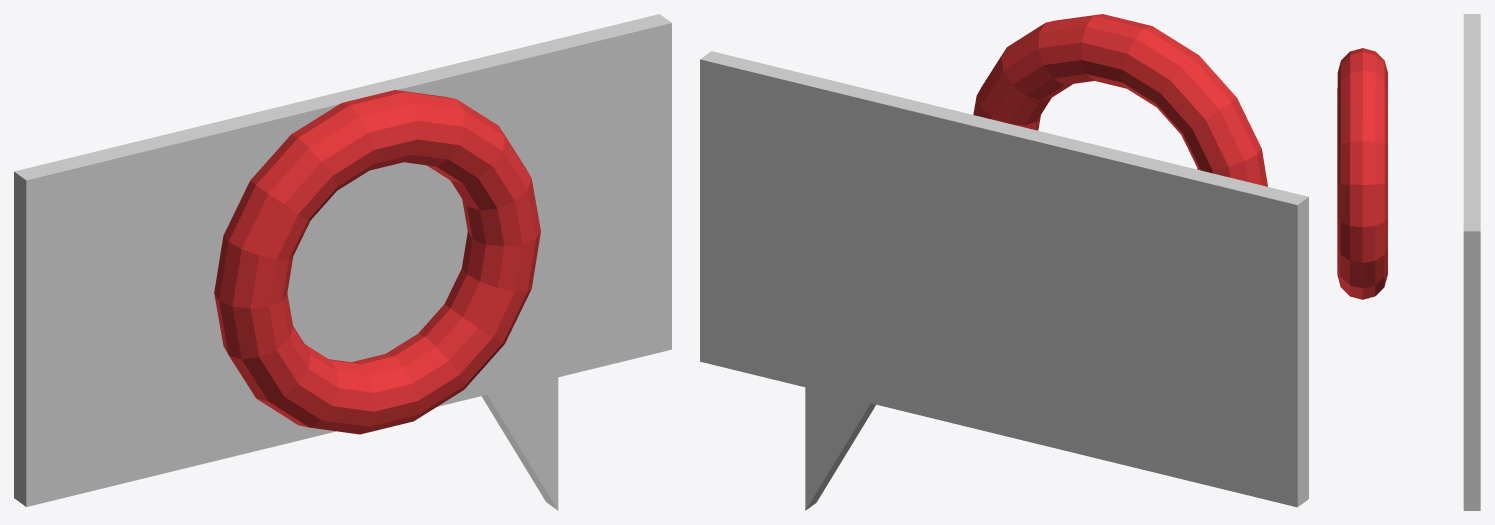
File: OBubble.glb
3 renders of one model, left to right at view 1: azimuth 30°, elevation 25°; view 2: azimuth 150°, elevation 25°; view 3: azimuth 270°, elevation 25°, orthographic. The views are drawn at different scales.
Parts seen in each view (by area): view 1: Bubble, O; view 2: Bubble, O; view 3: O, Bubble.
Part boxes in pixels (x1=…): Bubble: x1=14, y1=14, x2=671, y2=510; O: x1=214, y1=90, x2=540, y2=434; Bubble: x1=700, y1=51, x2=1308, y2=510; O: x1=973, y1=14, x2=1267, y2=186; O: x1=1337, y1=48, x2=1387, y2=299; Bubble: x1=1463, y1=14, x2=1480, y2=510.
Size of the model in its own units: 3.05 by 2.38 by 0.8507.
